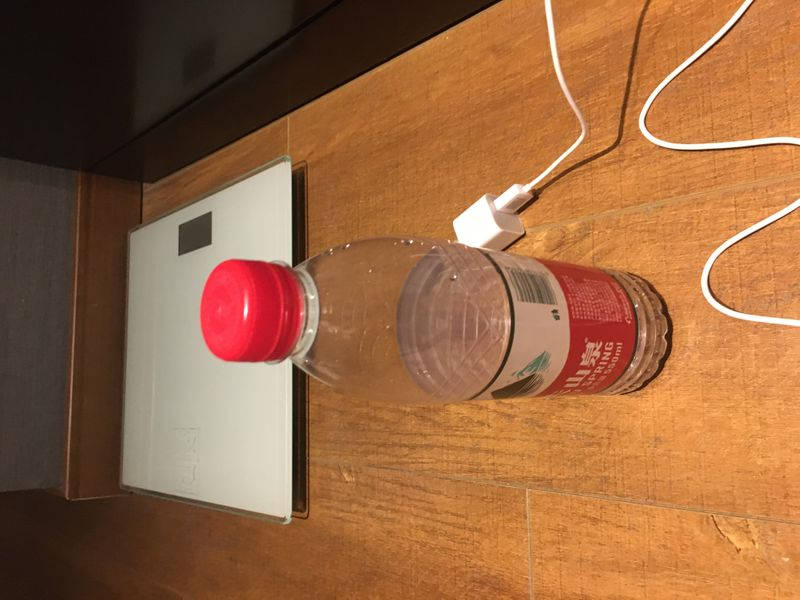5eca67a90202601e8cb8d104: (196, 239, 668, 405)
